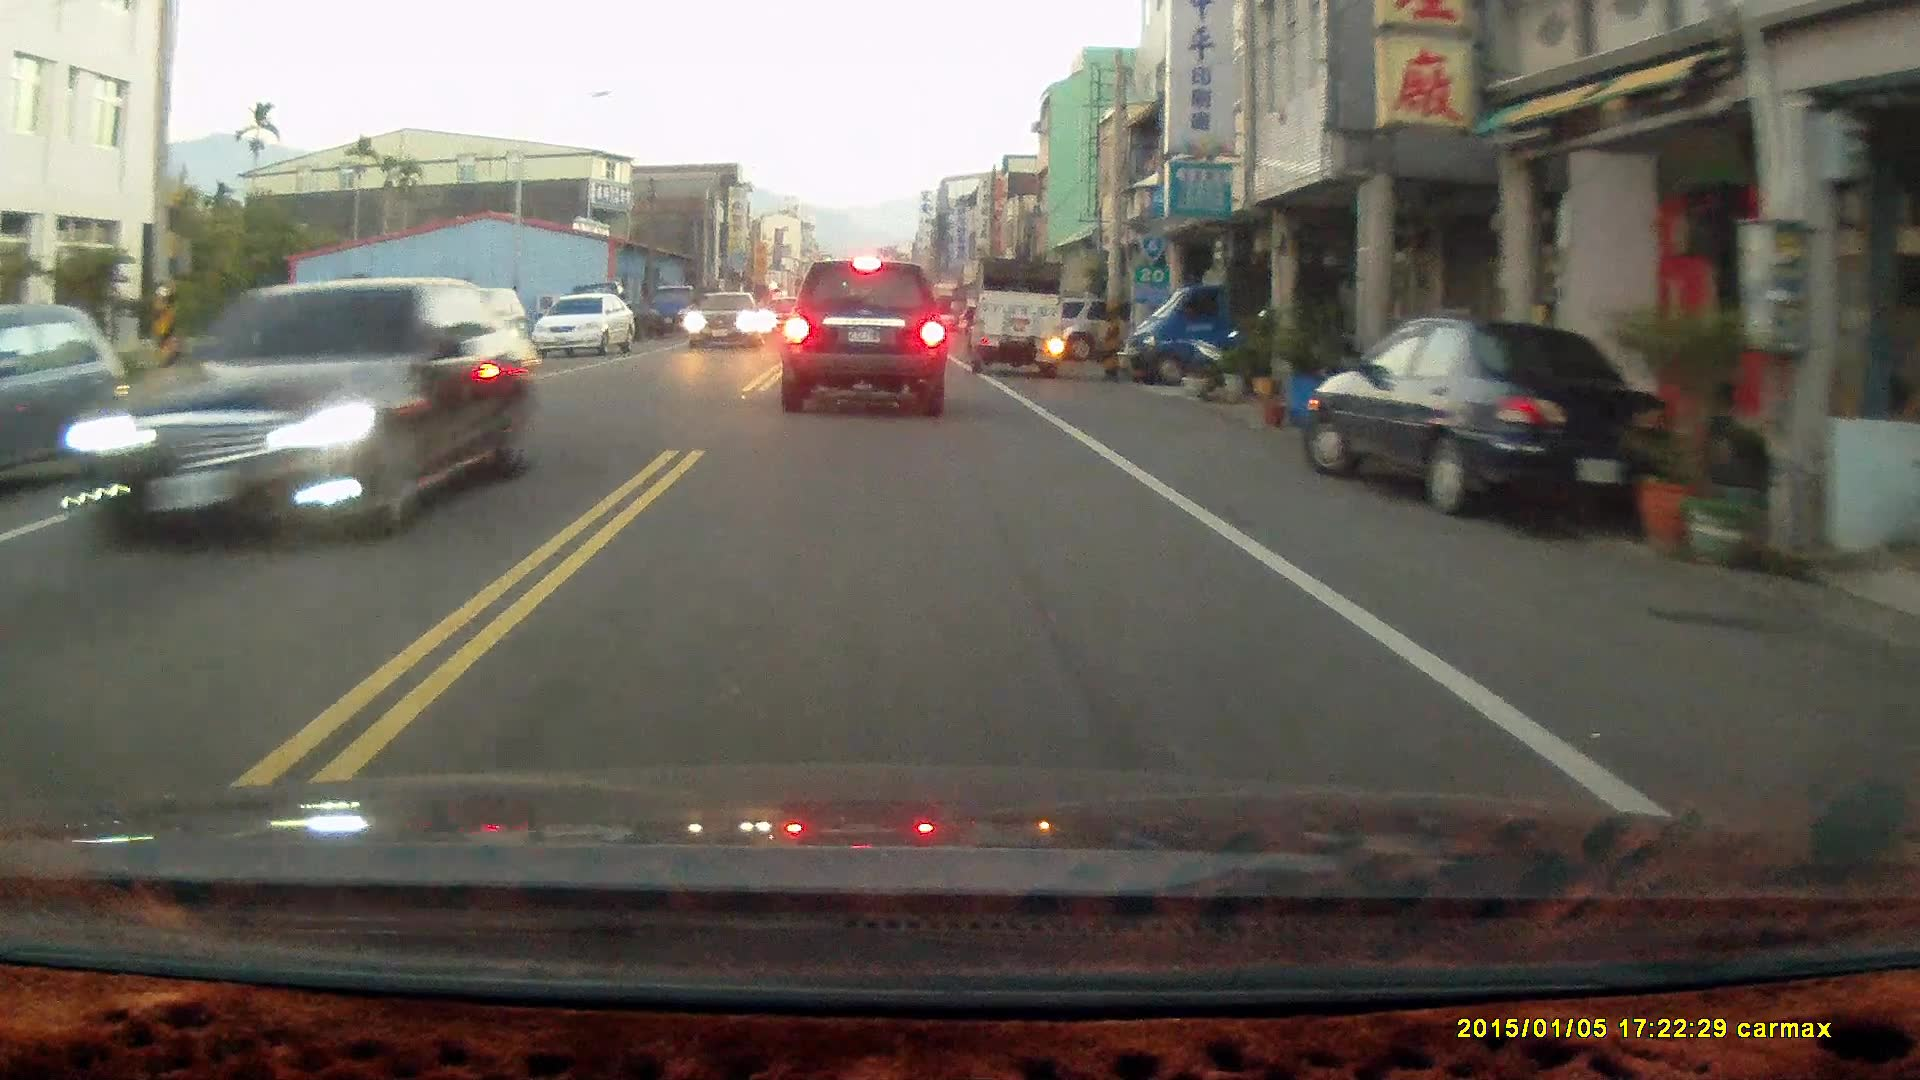vehicle: (51, 278, 521, 549), (1302, 316, 1696, 527), (783, 255, 948, 414), (1, 303, 131, 497), (1118, 262, 1271, 386), (969, 257, 1067, 376), (533, 290, 638, 359), (691, 293, 767, 349), (644, 281, 705, 339)
